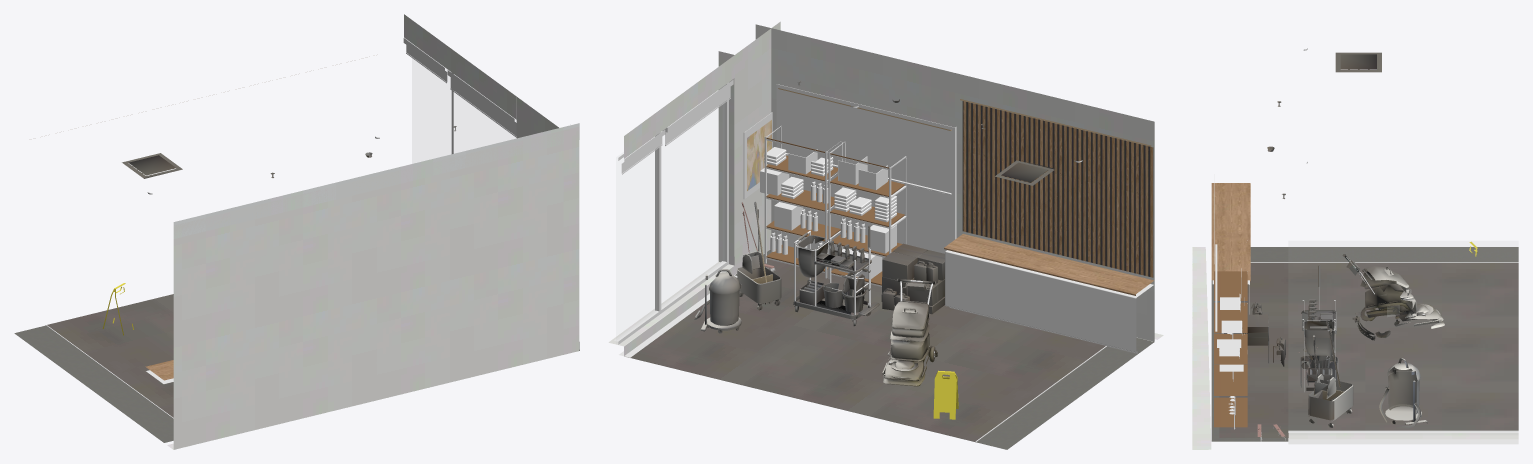
File: z-equipment-lite.full.13986bad.glb
3 renders of one model, left to right at view 1: azimuth 30°, elevation 25°; view 2: azimuth 150°, elevation 25°; view 3: azimuth 270°, elevation 25°, orthographic. The views are drawn at different scales.
Parts seen in each view (by area): view 1: equipment_plaster, equipment_bay_floor, equipment_carpet, equipment_satin, equipment_fx; view 2: equipment_satin, equipment_bay_floor, equipment_plaster, equipment_proxy_slat, equipment_fx, equipment_metal_lit, equipment_carpet, equipment_oak, equipment_steel_frame_shelves_01, equipment_art, equipment_WetFloorSign_01, equipment_emit; view 3: equipment_bay_floor, equipment_fx, equipment_carpet, equipment_plaster, equipment_steel_frame_shelves_01, equipment_satin, equipment_oak, equipment_metal_lit.
Part boxes in pixels (<box>): equipment_plaster: <box>167,14,579,449</box>; equipment_bay_floor: <box>47,294,173,417</box>; equipment_carpet: <box>14,325,173,442</box>; equipment_satin: <box>146,38,516,383</box>; equipment_fx: <box>122,126,456,178</box>; equipment_satin: <box>614,79,1153,357</box>; equipment_bay_floor: <box>630,259,1105,441</box>; equipment_plaster: <box>608,21,1163,355</box>; equipment_proxy_slat: <box>962,101,1153,277</box>; equipment_fx: <box>694,81,1054,386</box>; equipment_metal_lit: <box>743,112,1106,441</box>; equipment_carpet: <box>624,250,1154,449</box>; equipment_oak: <box>944,234,1154,295</box>; equipment_steel_frame_shelves_01: <box>766,137,904,285</box>; equipment_art: <box>747,120,771,190</box>; equipment_WetFloorSign_01: <box>933,370,958,419</box>; equipment_emit: <box>778,88,1151,146</box>; equipment_bay_floor: <box>1219,263,1518,437</box>; equipment_fx: <box>1224,52,1444,428</box>; equipment_carpet: <box>1211,247,1518,441</box>; equipment_plaster: <box>1192,247,1518,449</box>; equipment_steel_frame_shelves_01: <box>1214,271,1247,427</box>; equipment_satin: <box>1212,48,1518,444</box>; equipment_oak: <box>1211,183,1250,281</box>; equipment_metal_lit: <box>1215,240,1518,391</box>.
Bounding box in the file's own units: 6.25 × 3.35 × 4.25.
14 materials, 7 textured.
